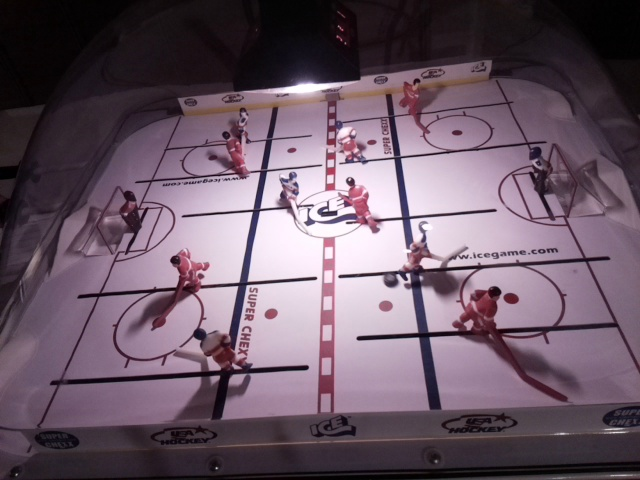puck: (383, 272, 397, 286)
